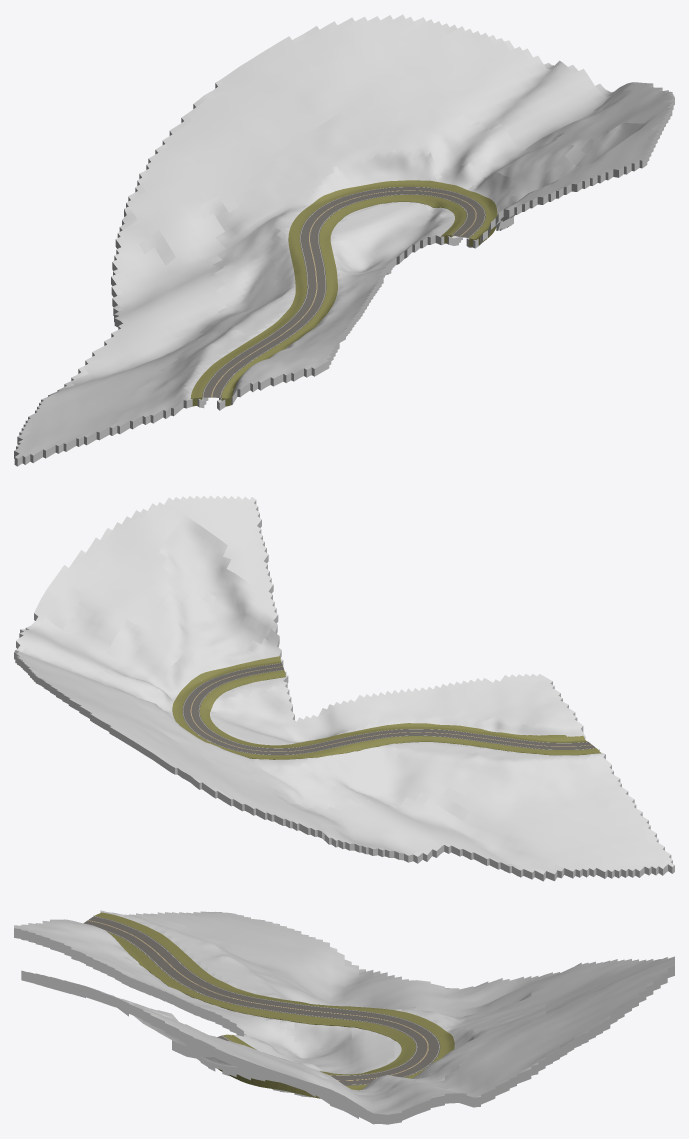
Rendered from conz_75.glb.
The picture shows the model from 3 angles, top to bottom: view 1: azimuth 30°, elevation 25°; view 2: azimuth 150°, elevation 25°; view 3: azimuth 270°, elevation 25°; orthographic projection. The views are drawn at different scales.
Parts seen in each view (by area): view 1: terrain75, road75, verge75R, verge75L; view 2: terrain75, road75, verge75R, verge75L; view 3: terrain75, road75, verge75R, verge75L, paint_white75, paint_yellow75.
Boxes of the visible parts, x1,y1,x2,y2 form: terrain75: (14,14,674,466); road75: (202,186,485,397); verge75R: (190,180,497,406); verge75L: (221,194,466,406); terrain75: (14,495,674,881); road75: (182,663,595,755); verge75R: (172,656,600,759); verge75L: (199,670,587,748); terrain75: (14,910,674,1124); road75: (84,916,440,1085); verge75R: (94,912,454,1098); verge75L: (108,932,415,1075); paint_white75: (93,916,439,1084); paint_yellow75: (88,920,428,1080).
Bounding box in the file's own units: 268 × 93.39 × 184.
